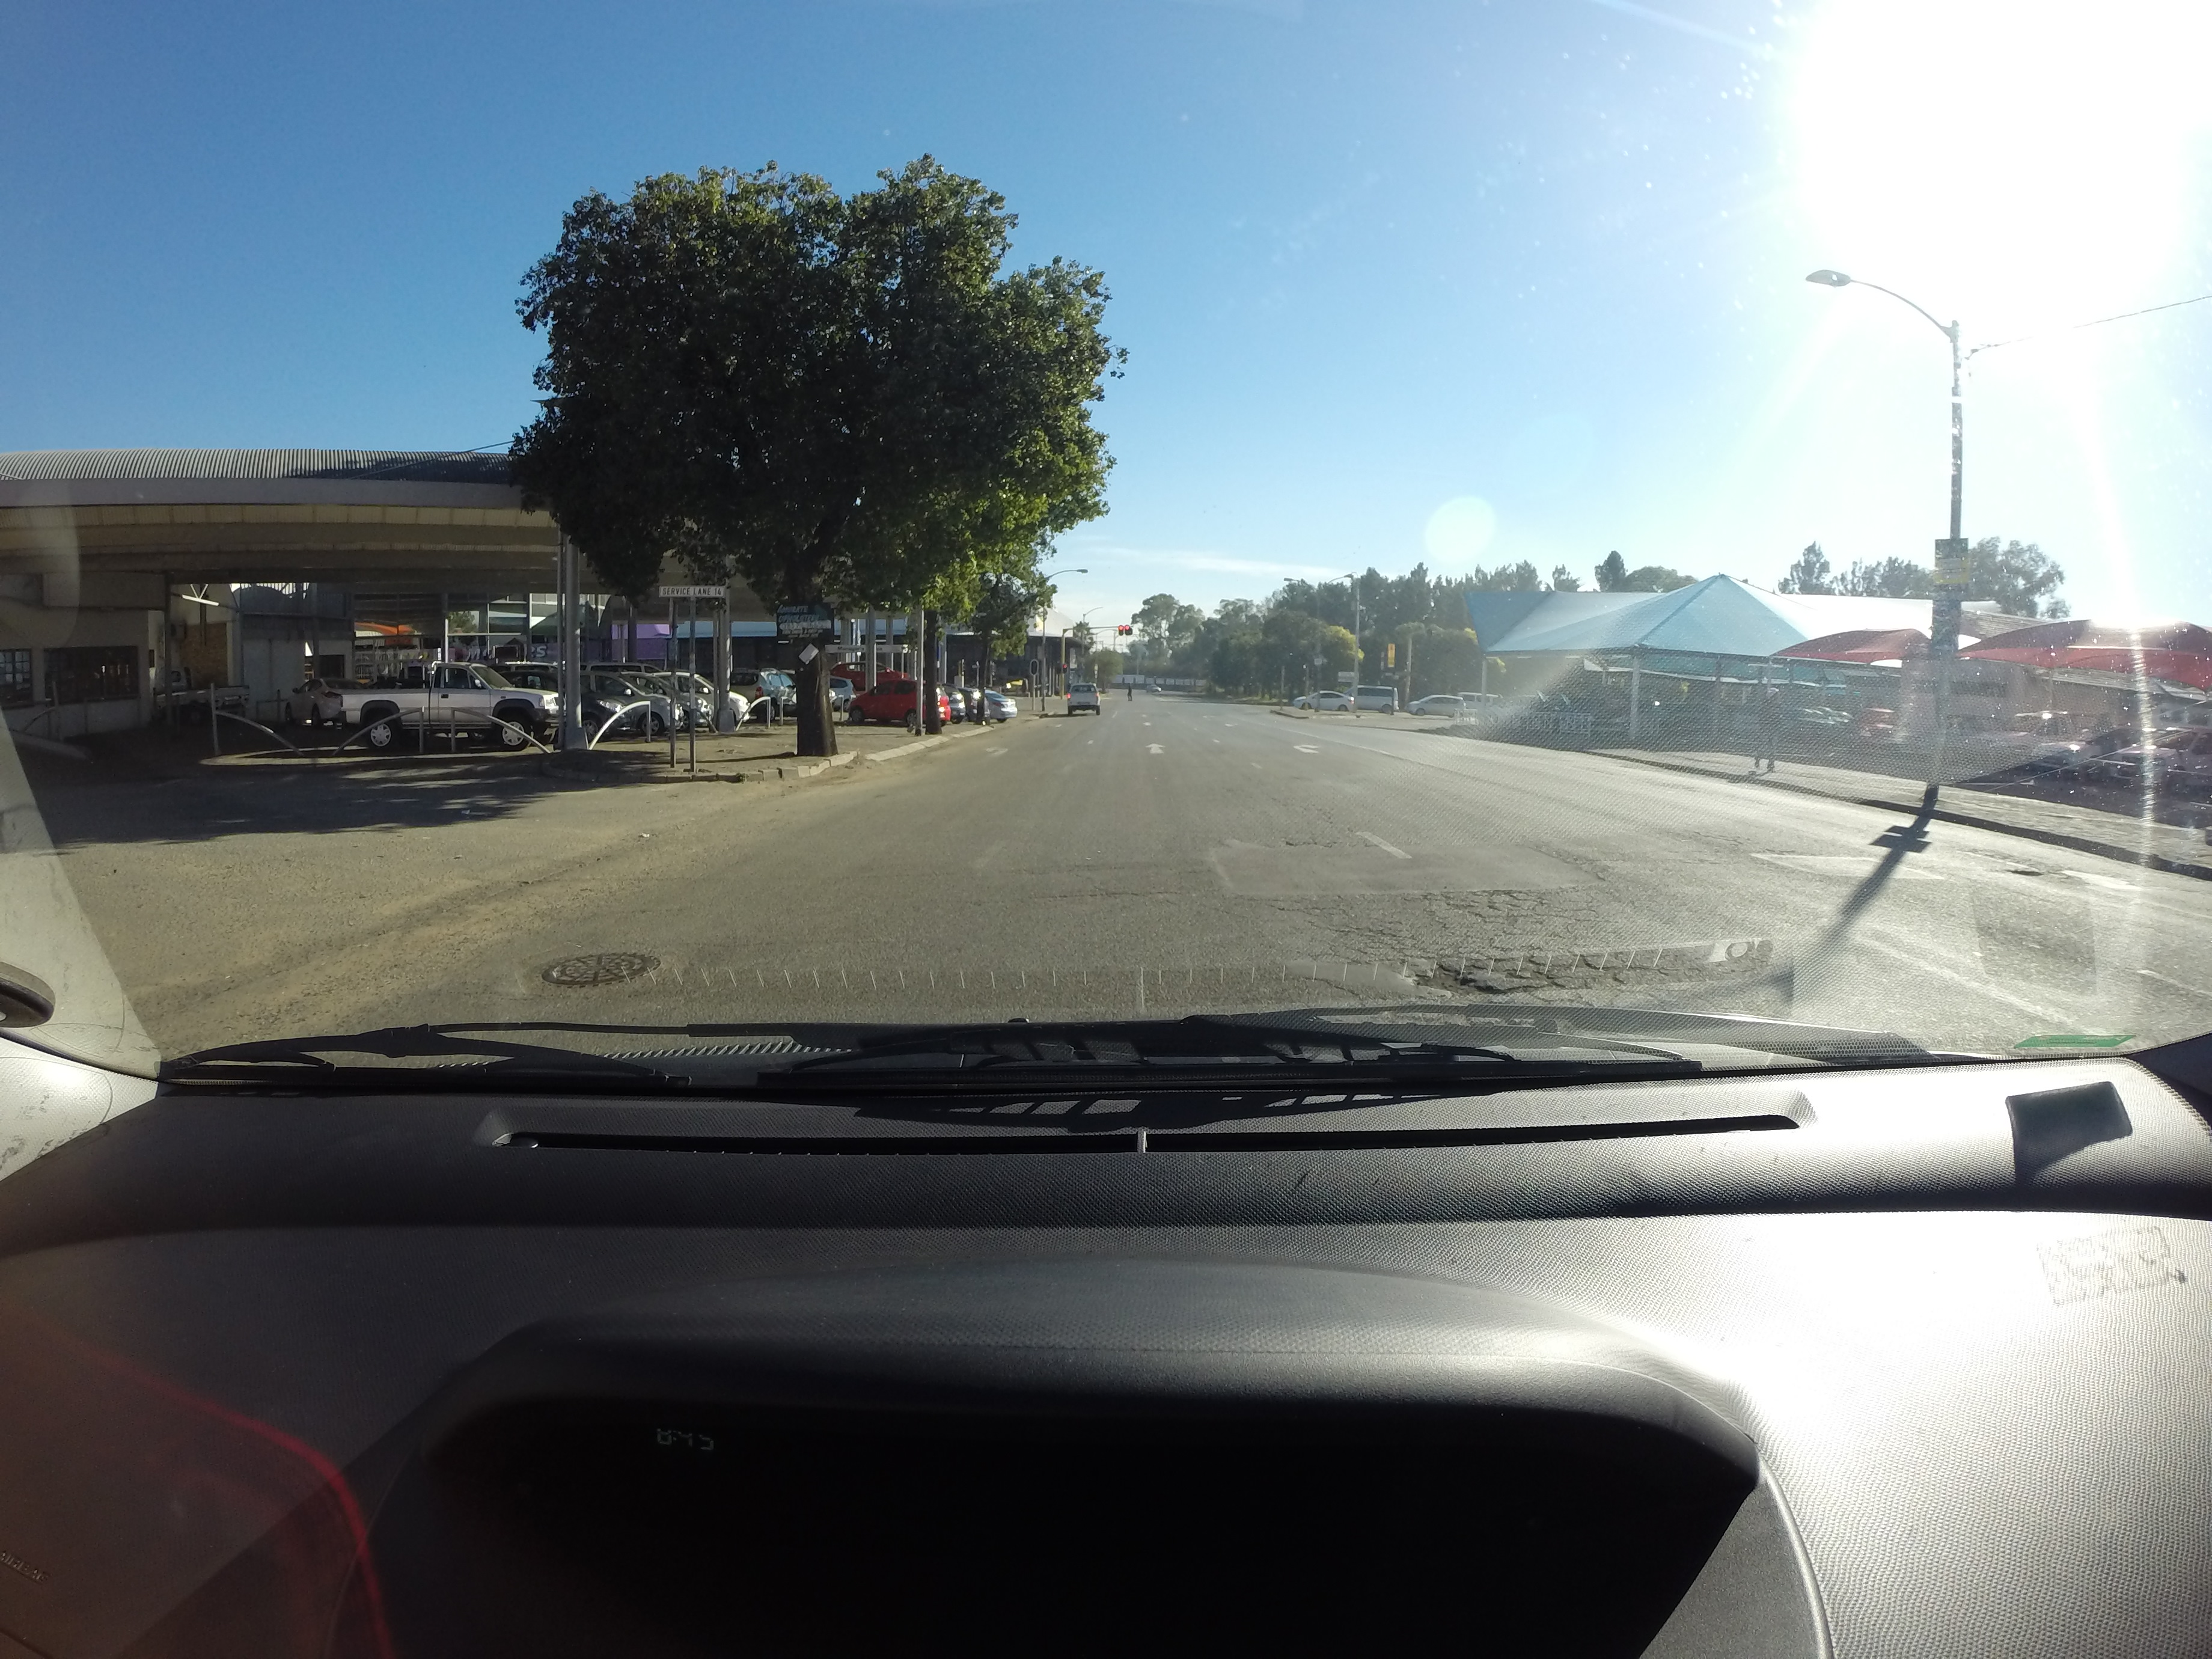pothole: (1308, 897, 1818, 1023), (498, 922, 732, 1014)
